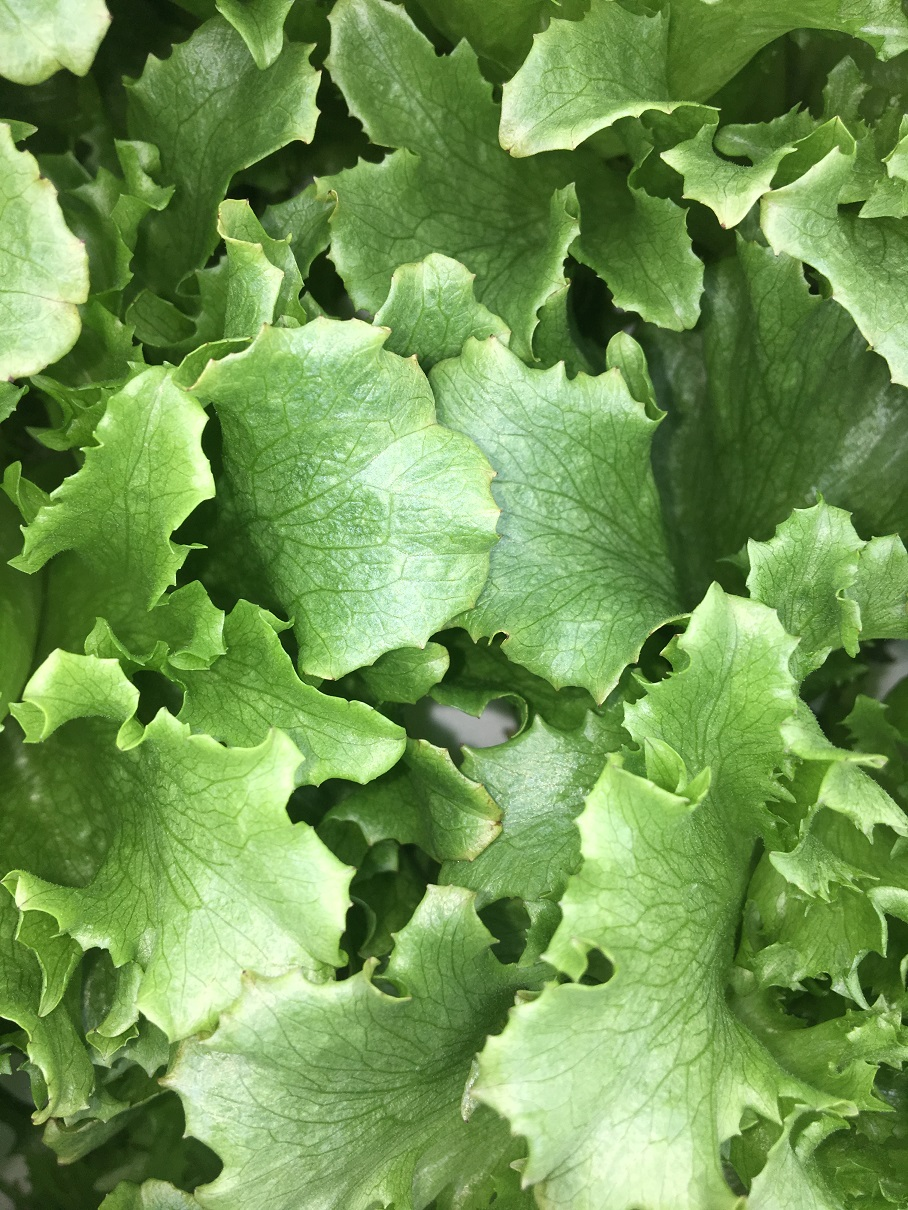tipburn: (486, 103, 546, 168), (471, 456, 513, 522), (206, 189, 258, 240), (26, 1095, 89, 1137), (706, 202, 754, 251), (478, 794, 522, 840), (164, 365, 213, 406), (394, 338, 440, 381), (308, 174, 351, 219), (227, 952, 269, 996), (586, 682, 624, 730), (366, 306, 407, 349), (478, 317, 518, 361), (281, 121, 335, 153), (597, 353, 635, 392), (300, 296, 338, 334), (247, 306, 285, 342), (667, 619, 701, 659), (1, 356, 31, 399), (487, 617, 527, 649), (24, 158, 61, 190), (61, 226, 102, 254), (360, 948, 394, 973), (641, 610, 665, 644), (453, 1107, 482, 1133), (88, 1020, 109, 1041)
